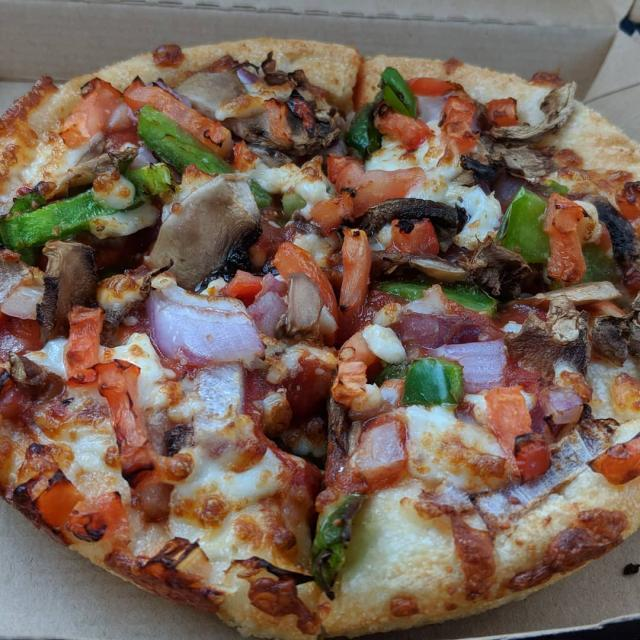mushrooms: (149, 174, 260, 289), (505, 295, 590, 375), (38, 240, 98, 339), (490, 81, 576, 141), (461, 239, 534, 299), (360, 198, 467, 234), (493, 146, 558, 182), (535, 281, 621, 306), (591, 315, 629, 366), (409, 256, 467, 283), (627, 293, 640, 358)
pizza: (0, 40, 640, 640)
